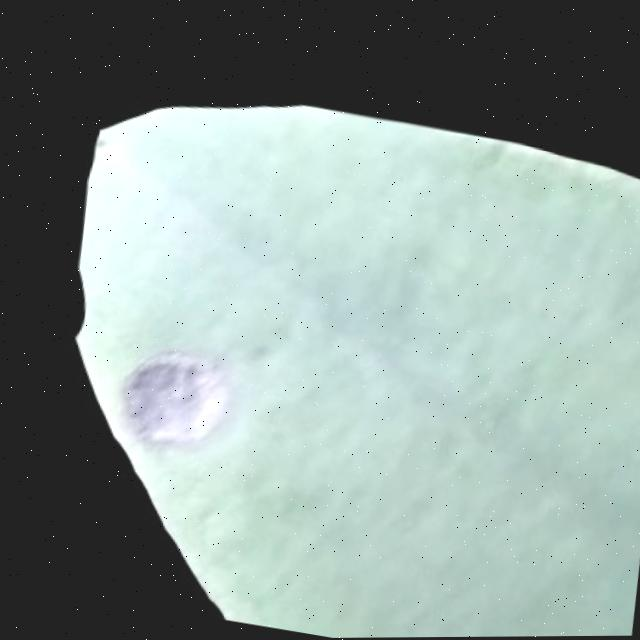mite: (84, 334, 259, 622), (463, 133, 503, 176)
sunburn: (103, 335, 231, 460)
